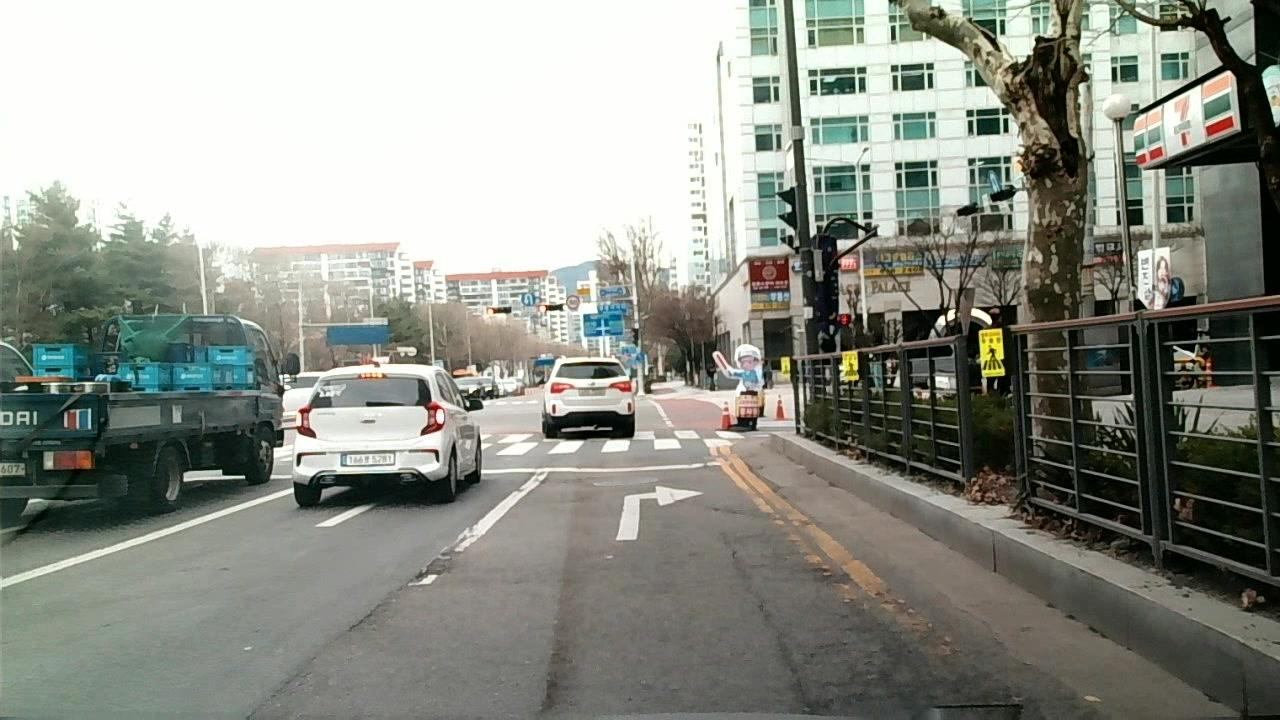banner: (834, 600, 1105, 720), (542, 591, 585, 720), (718, 533, 776, 627), (775, 632, 820, 720), (338, 586, 409, 640), (408, 541, 460, 585)
